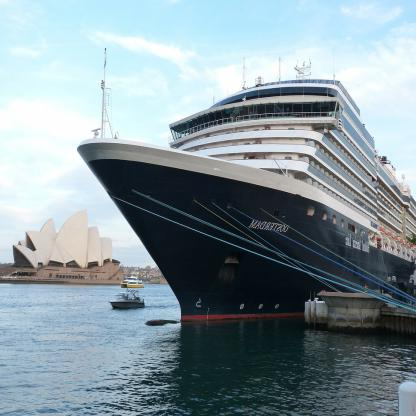Fishing Boat: (110, 289, 145, 310)
